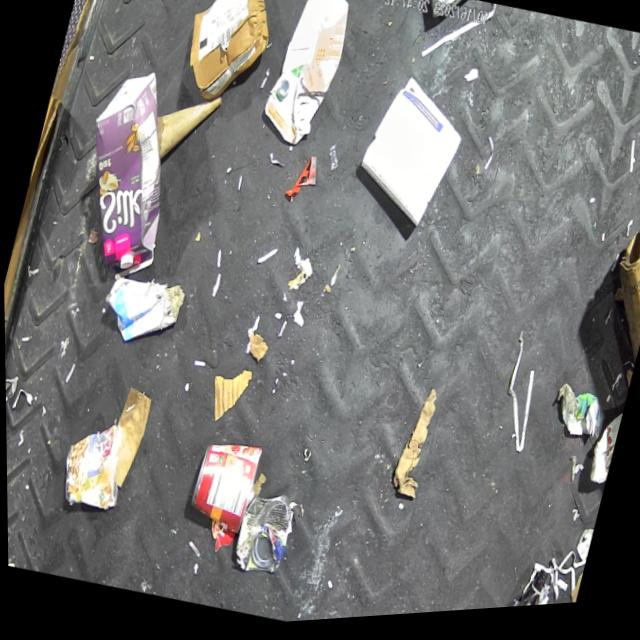can: (51, 412, 135, 517), (181, 433, 262, 539), (225, 485, 299, 584), (582, 408, 624, 498)
non_white_jug: (53, 57, 200, 294), (253, 0, 359, 155)
